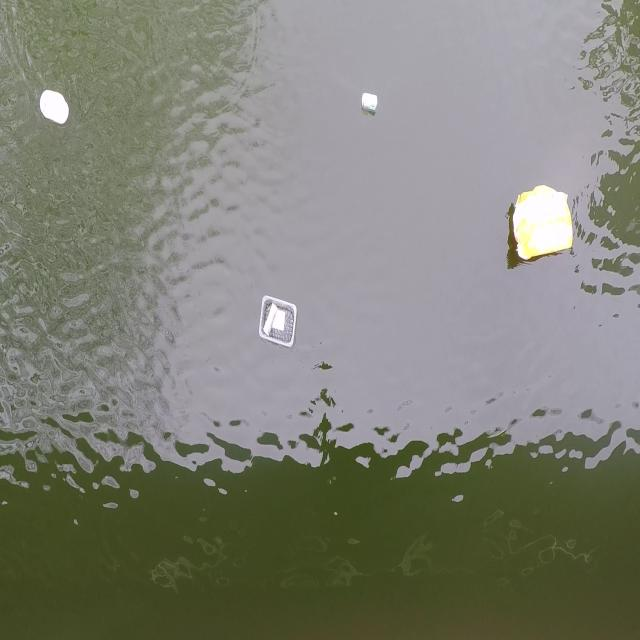Autre plastique: (256, 288, 300, 356)
Non plastique: (360, 90, 380, 117)
Sac plastique: (507, 182, 579, 266)
